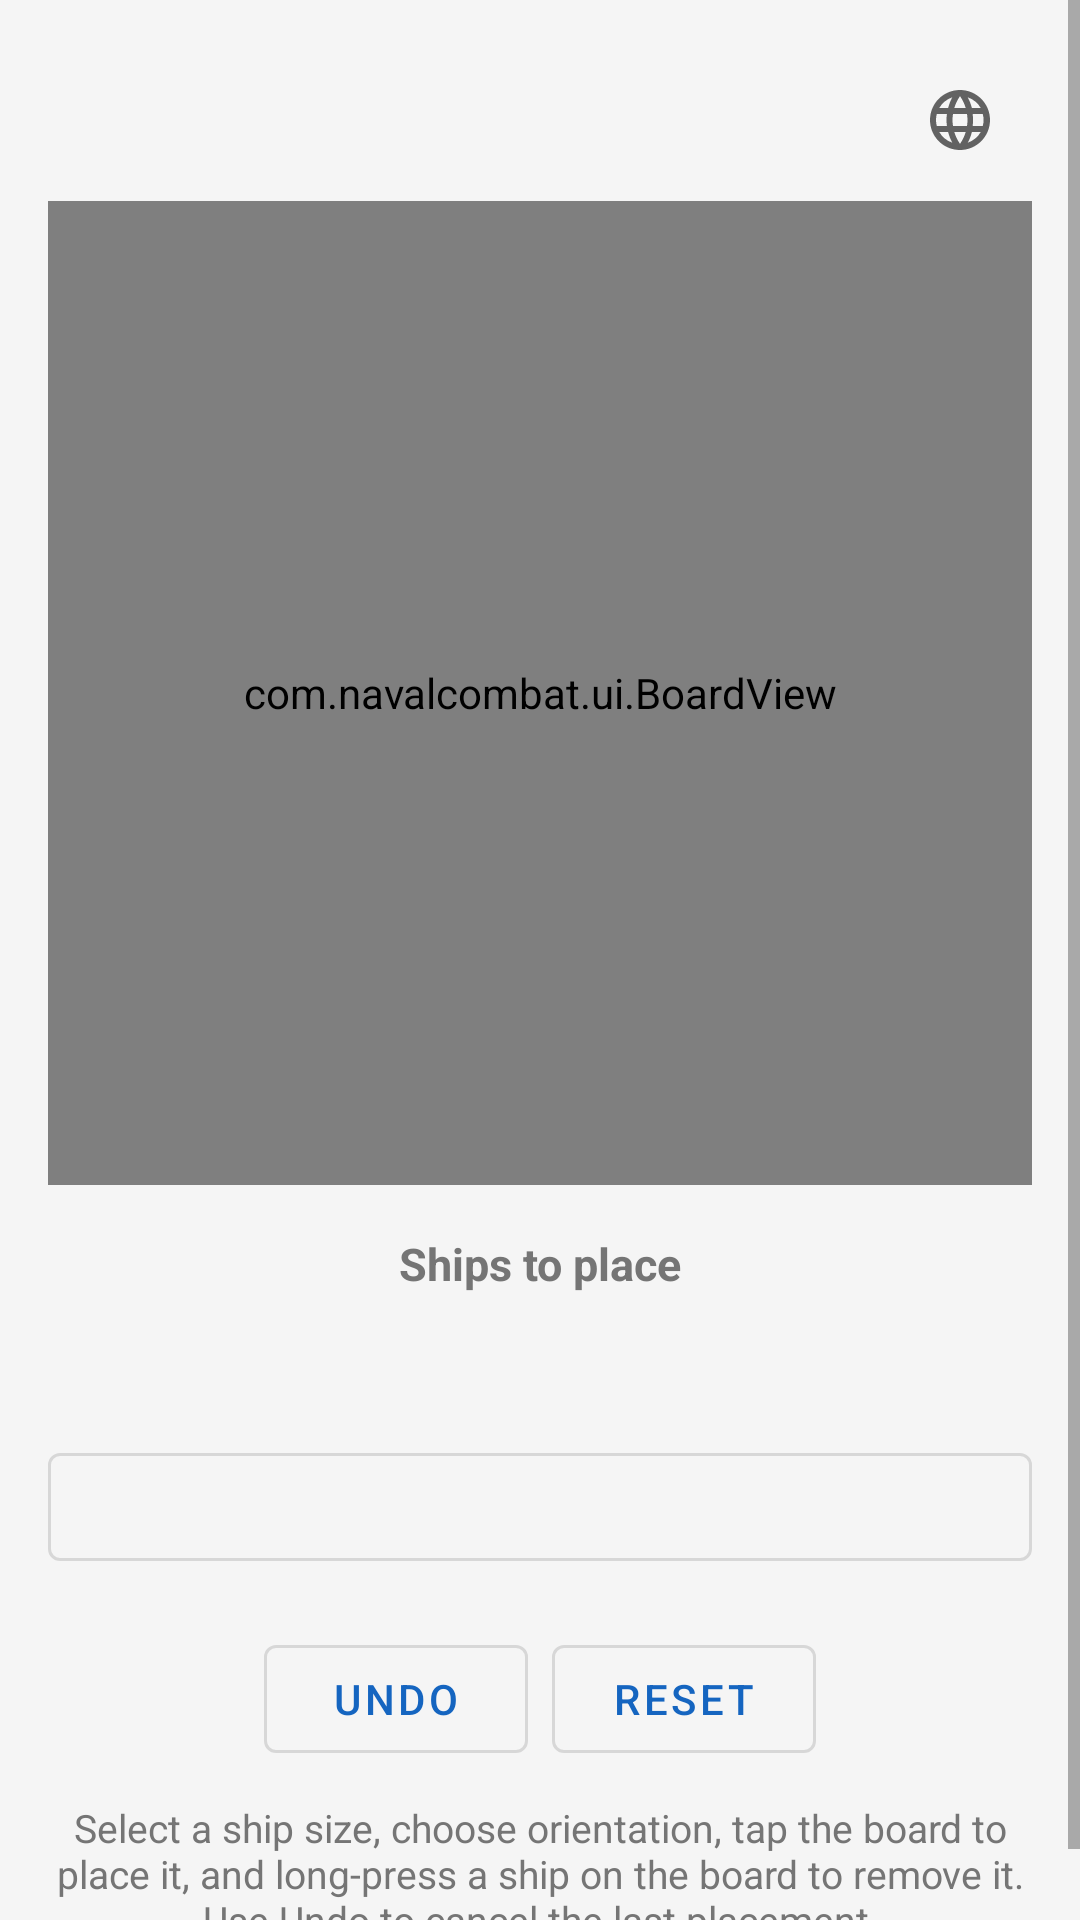

Screen size 1080px×1920px. Icon name, then its box in pixels as (x1, y1, x2, y2):
Switch Language: (930, 90, 990, 150)
